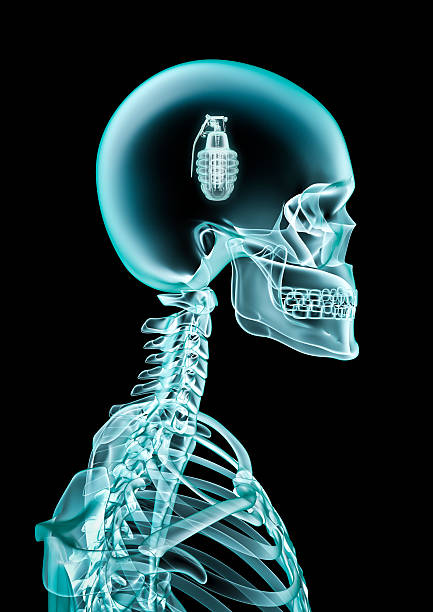e1: (190, 110, 243, 203)
